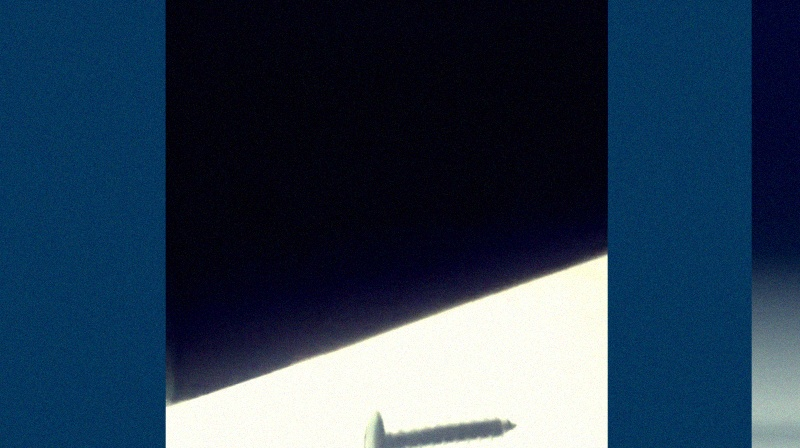S003: (359, 405, 516, 447)
